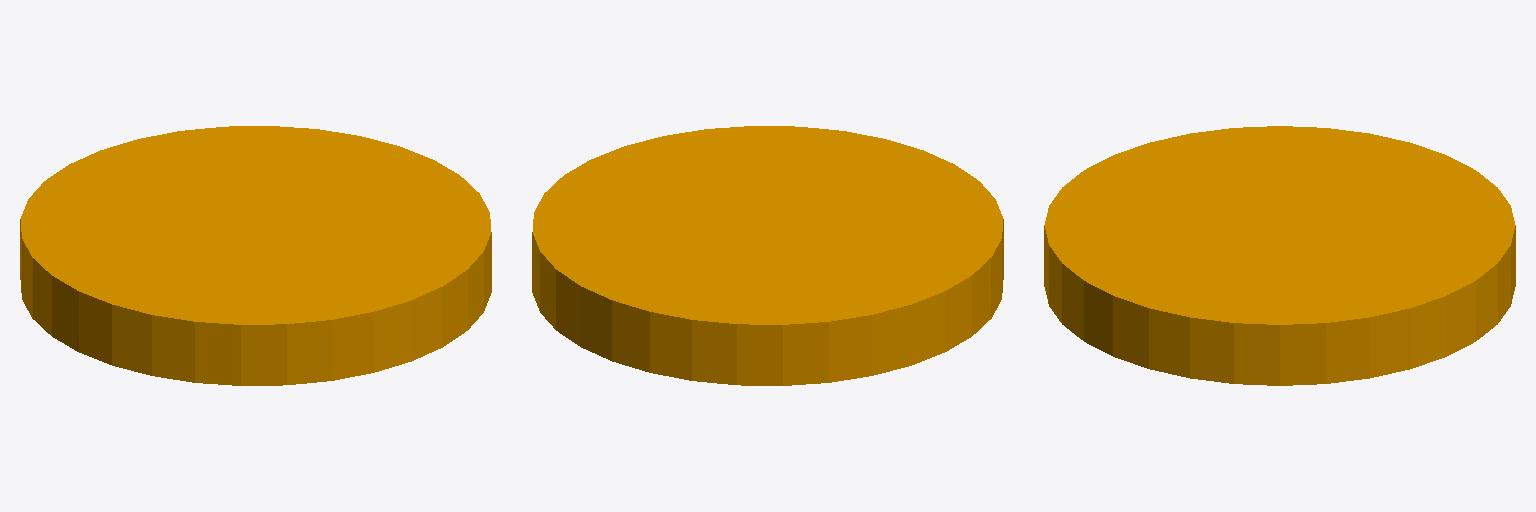
URDF robot description (cylinder):
<?xml version="1.0"?>
<robot name="cylinder">
 <link name="body">
  <inertial>
    <mass value="1"/>
    <inertia ixx="0.1" ixy="0" ixz="0" iyy="0.1" iyz="0" izz="0.1"/>
  </inertial>
  <visual>
    <origin rpy="0 0 0" xyz="0 0 0"/>
    <geometry>
      <cylinder length="0.1" radius="0.35"/>
    </geometry>
  </visual>
  <collision>
    <origin rpy="0 0 0" xyz="0 0 0"/>
    <geometry>
      <cylinder length="0.1" radius="0.35"/>
    </geometry>
  </collision>
 </link>

  <klampt package_root="../../.." default_acc_max="4" >
  </klampt>
</robot>

--- Render facts (derived) ---
3 views of the same robot in one strip: view 1: azimuth 30°, elevation 25°; view 2: azimuth 150°, elevation 25°; view 3: azimuth 270°, elevation 25° (orthographic).
Model cylinder with 1 links and 0 joints (none), rooted at body, posed every joint at zero.
Visible links, largest first — view 1: body; view 2: body; view 3: body.
Boxes of the visible links, x1,y1,x2,y2 form: body: (20,126,491,385); body: (532,126,1003,385); body: (1044,126,1515,385).
Bounding box of the posed robot: 0.7 × 0.7 × 0.1 m (x, y, z).
Geometry: primitives only (box / cylinder / sphere), no mesh files.